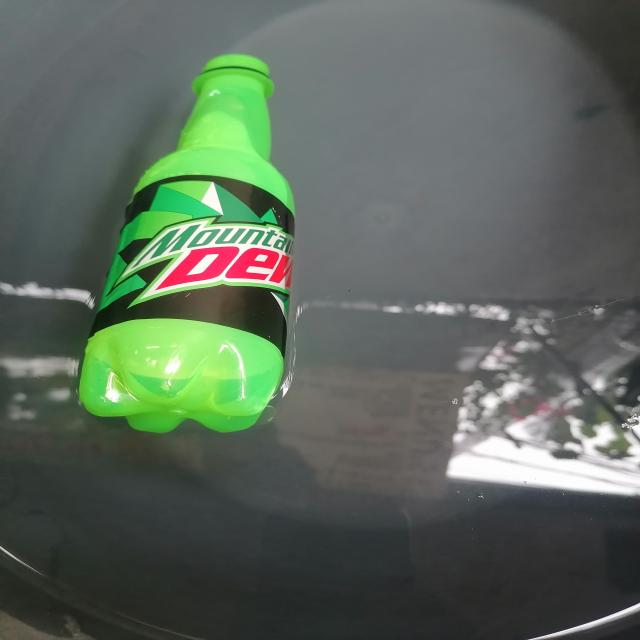Plastic Bottle: (79, 54, 294, 434)
